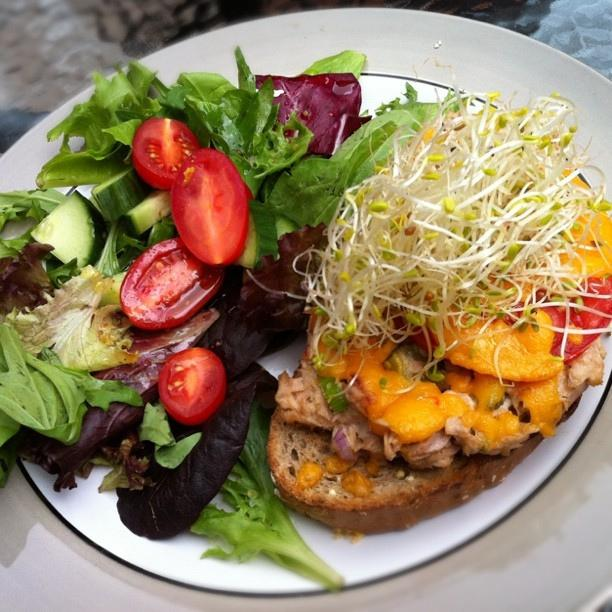lettuce: (0, 308, 220, 492), (189, 398, 344, 593), (115, 365, 276, 539), (268, 81, 441, 227), (157, 45, 314, 196), (0, 316, 144, 446), (0, 264, 139, 372), (47, 63, 162, 154), (241, 221, 328, 318), (256, 72, 361, 142), (0, 241, 60, 319), (294, 49, 368, 82), (139, 400, 177, 448), (0, 188, 67, 214)
tomato: (120, 236, 225, 331), (170, 148, 250, 268), (539, 276, 612, 366), (158, 348, 226, 426), (132, 117, 202, 190)
